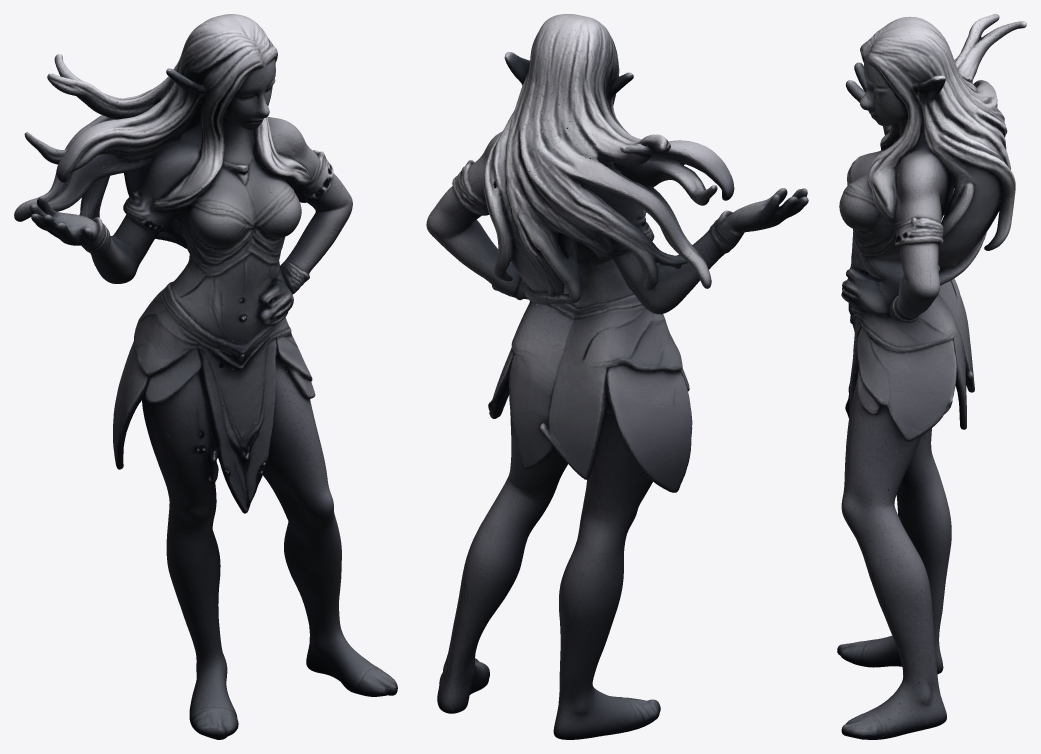
File: fig_dark_elf_clay.glb
3 renders of one model, left to right at view 1: azimuth 30°, elevation 25°; view 2: azimuth 150°, elevation 25°; view 3: azimuth 270°, elevation 25°, orthographic. The views are drawn at different scales.
Visible parts, largest first — view 1: geometry_0; view 2: geometry_0; view 3: geometry_0.
Boxes of the visible parts, left/top/right/bottom form: geometry_0: left=14, top=14, right=397, bottom=739; geometry_0: left=426, top=14, right=808, bottom=739; geometry_0: left=837, top=14, right=1026, bottom=739.
Bounding box in the file's own units: 0.5424 × 1 × 0.2634.
1 material, 1 textured.
